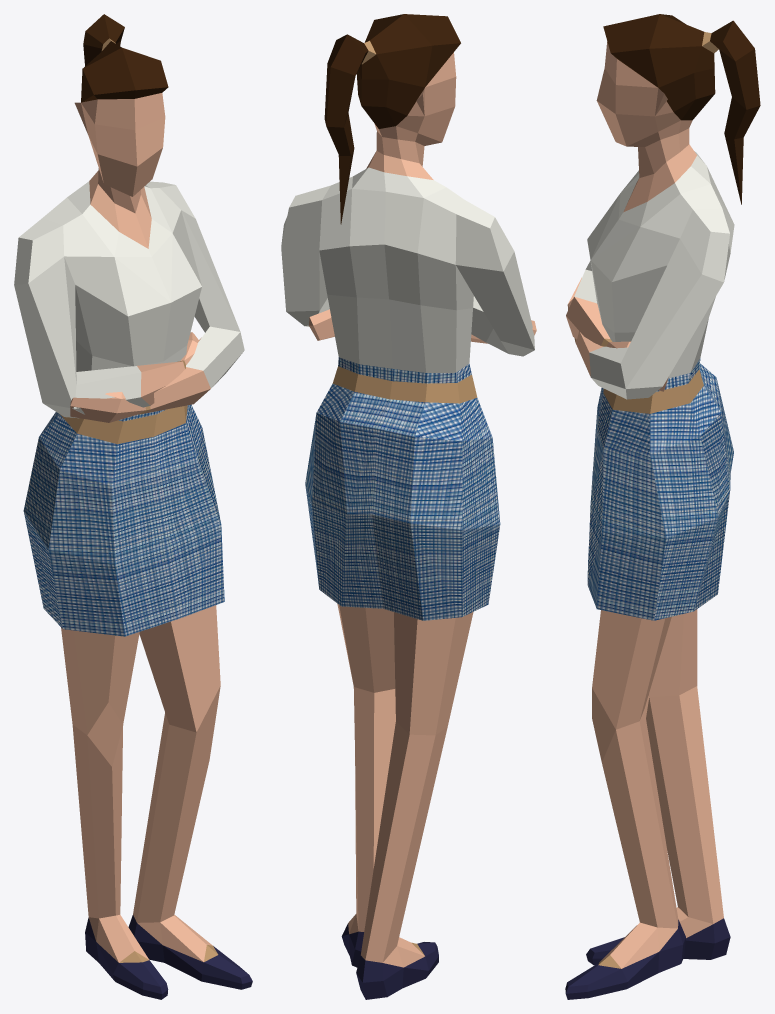
The model's file is SpringWomanB.002.glb.
3 renders of one model, left to right at view 1: azimuth 30°, elevation 25°; view 2: azimuth 150°, elevation 25°; view 3: azimuth 270°, elevation 25°, orthographic. The views are drawn at different scales.
Visible parts, largest first — view 1: SpringWomanB.002; view 2: SpringWomanB.002; view 3: SpringWomanB.002.
Part boxes in pixels (box(x1,y1,x2,y2)): SpringWomanB.002: box(14, 14, 252, 999); SpringWomanB.002: box(281, 14, 536, 999); SpringWomanB.002: box(565, 14, 760, 999).
Size of the model in its own units: 0.4125 by 1.71 by 0.32.
Materials: 1 (1 with a texture image).
